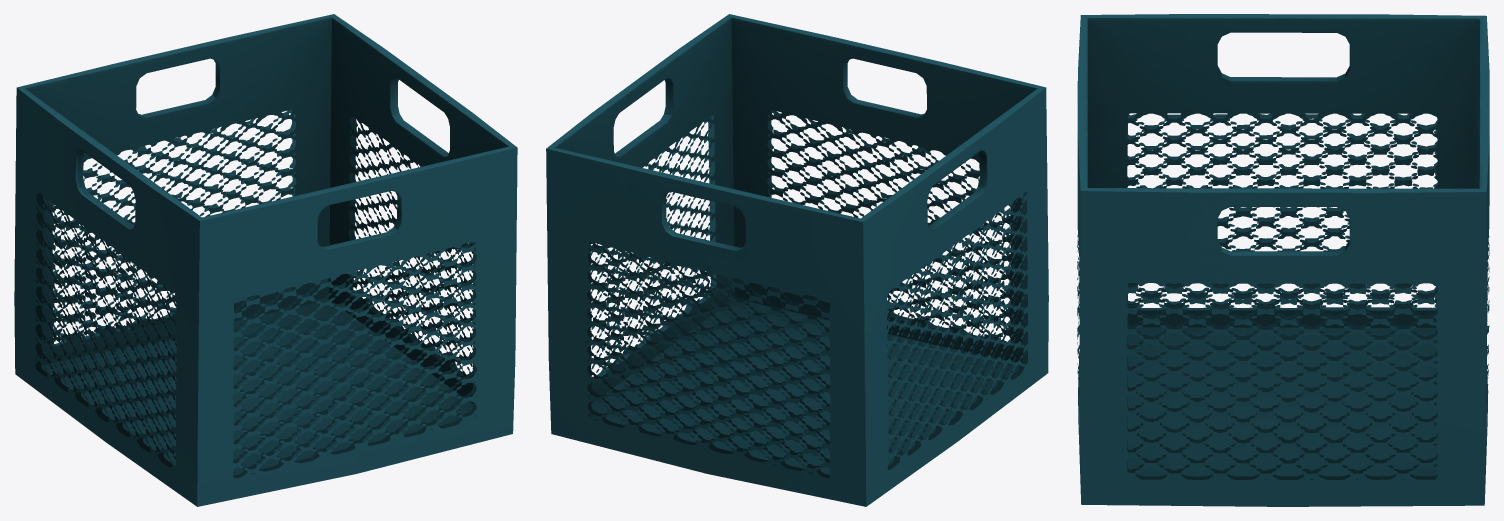
The model's file is Plastic Container 8.fbx.
3 renders of one model, left to right at view 1: azimuth 30°, elevation 25°; view 2: azimuth 150°, elevation 25°; view 3: azimuth 270°, elevation 25°, orthographic. The views are drawn at different scales.
Parts seen in each view (by area): view 1: plastic_container_8; view 2: plastic_container_8; view 3: plastic_container_8.
Part boxes in pixels (<box>): plastic_container_8: <box>14,14,517,506</box>; plastic_container_8: <box>546,14,1048,506</box>; plastic_container_8: <box>1077,14,1489,506</box>.
Bounding box in the file's own units: 42.31 × 36.24 × 42.06.
Materials: 1 (1 with a texture image).
